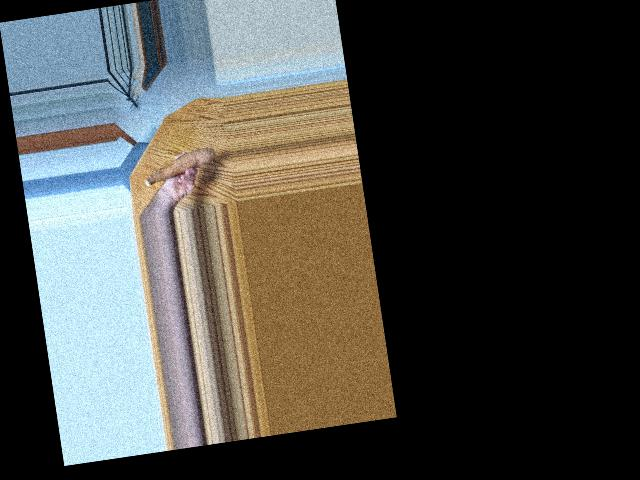sweet_potato: (141, 143, 216, 193)
